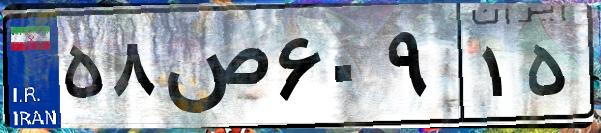0: (330, 28, 385, 110)
1: (475, 38, 525, 113)
5: (57, 26, 110, 100), (525, 38, 570, 115)
6: (270, 28, 330, 110)
8: (110, 28, 158, 98)
9: (385, 28, 445, 110)
ص: (158, 20, 270, 120)
